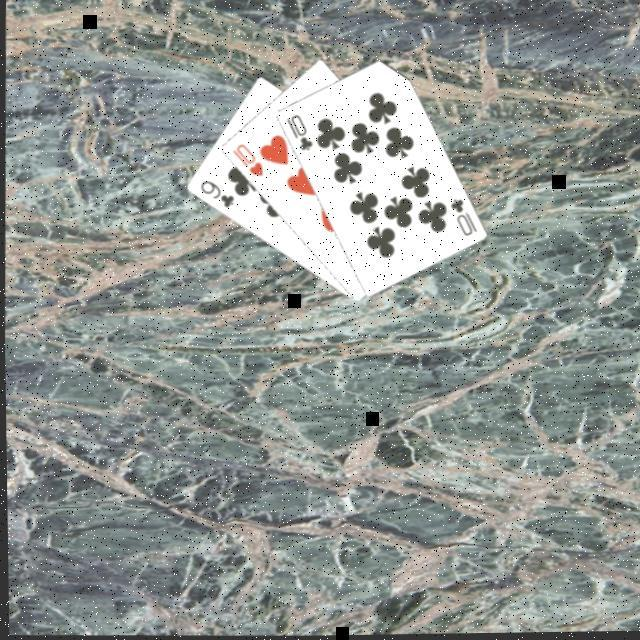10C: (280, 111, 314, 156), (443, 197, 478, 240)
10H: (226, 140, 265, 181)
9C: (194, 178, 236, 212)
